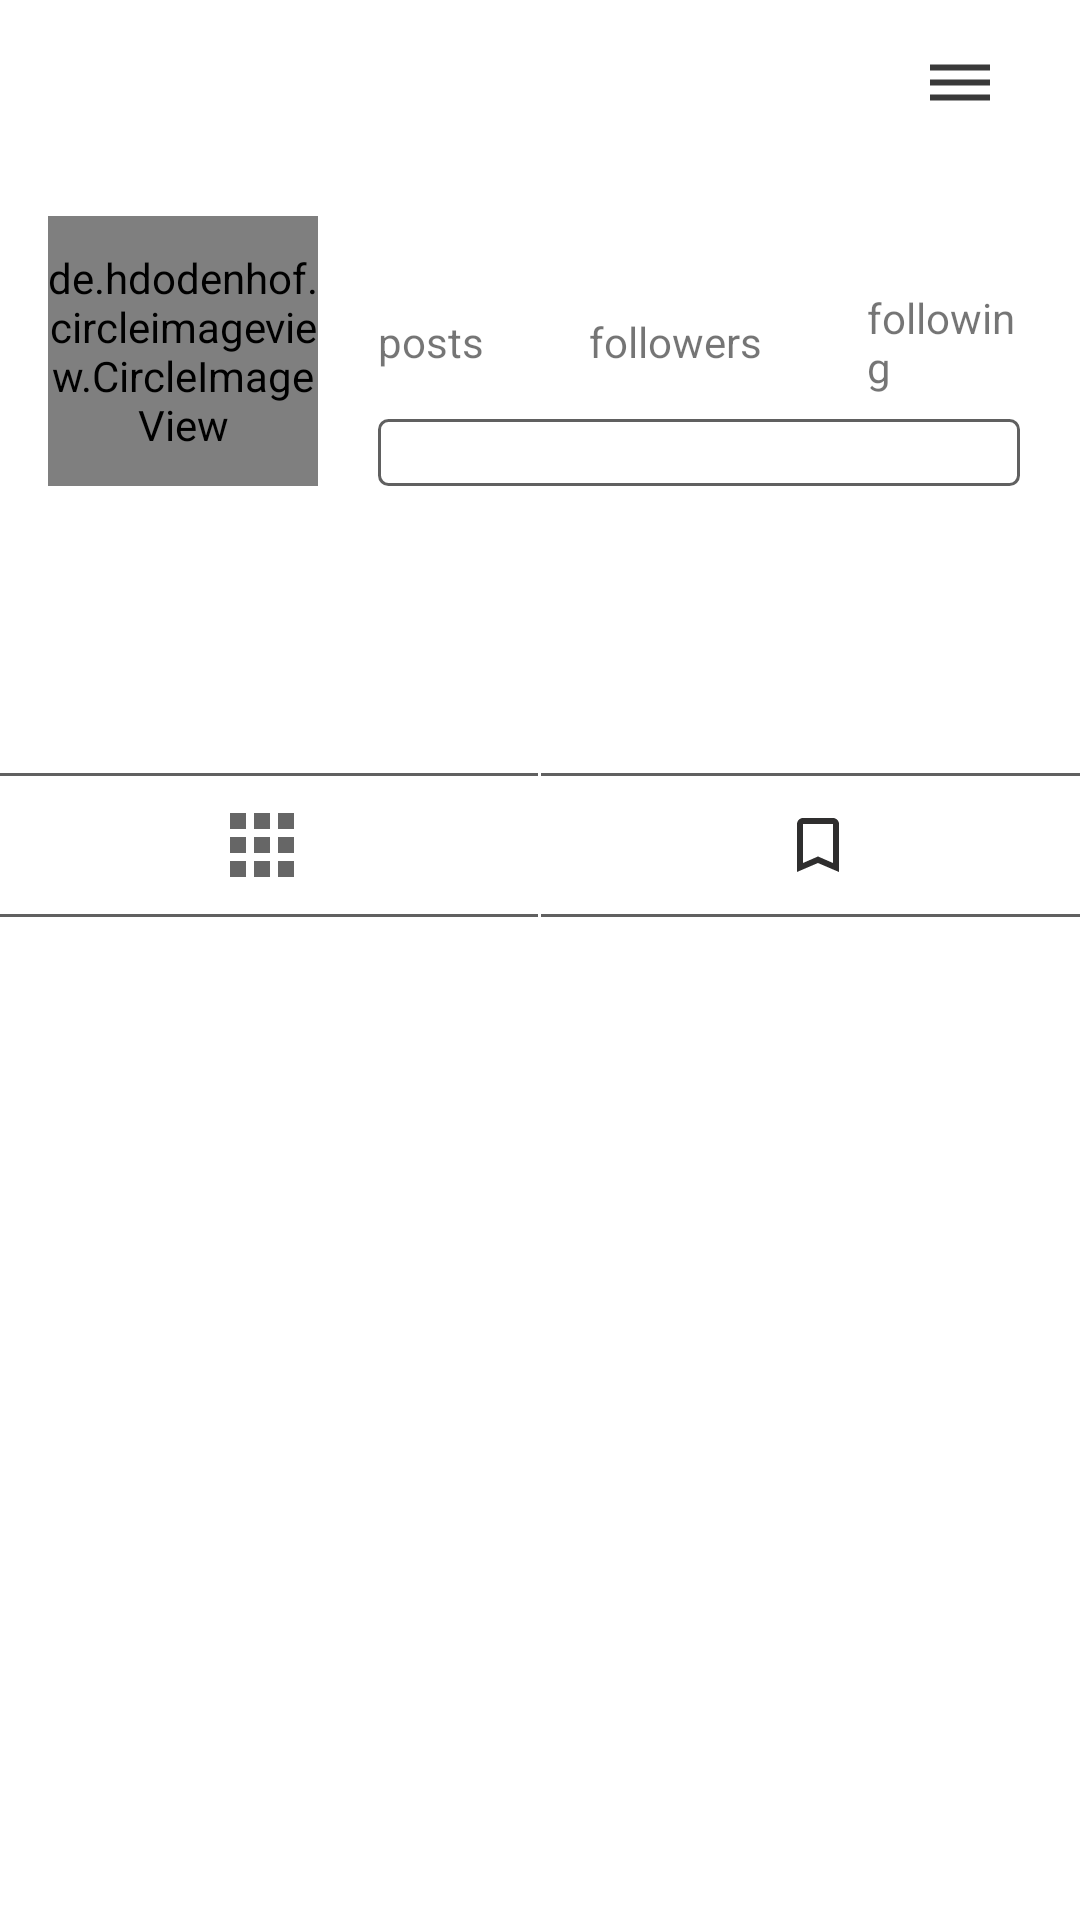

Screen size 1080px x 1920px. Icon name, then its box in pixels as (x1, y1, x2, y2):
options: (930, 64, 990, 101)
